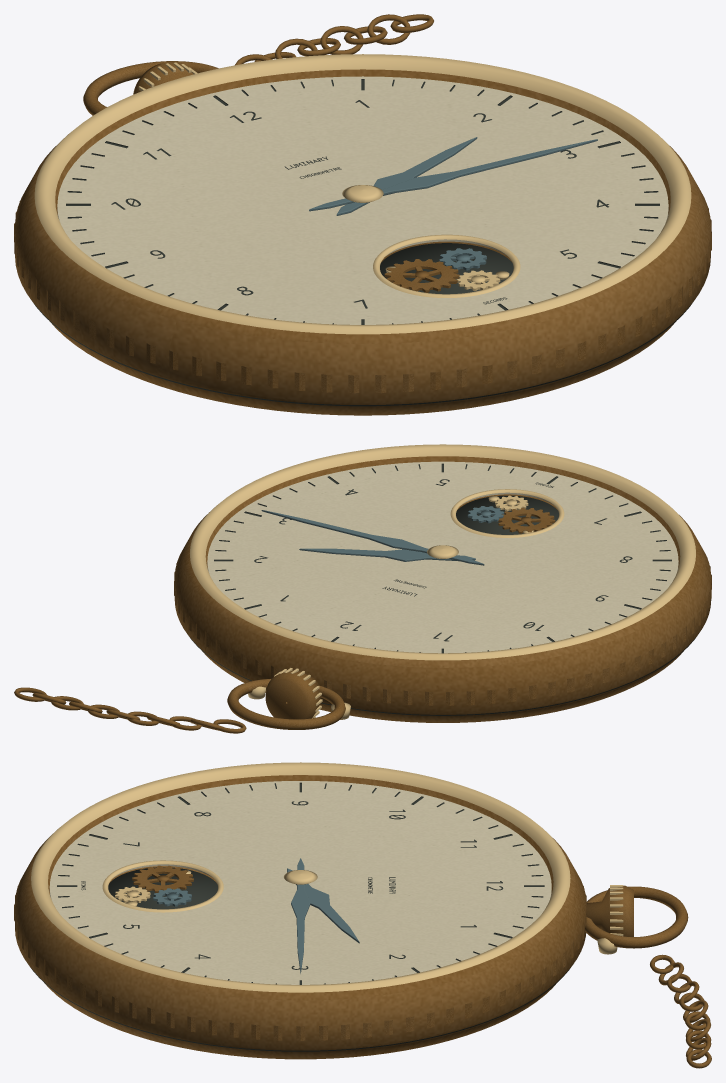
Rendered from brass-watch.glb.
3 views of the same model, one above another, from view 1: azimuth 30°, elevation 25°; view 2: azimuth 150°, elevation 25°; view 3: azimuth 270°, elevation 25° (orthographic). The views are drawn at different scales.
Parts seen in each view (by area): view 1: Watch ivory enamel, Watch_Case / Aged brass, Watch_Case / Polished touch edges, Watch_Case / Engraved charcoal, Mechanism recessed bed, Watch_minute, Watch_Mechanism / Aged brass / Watch_escape_wheel_pivot, Watch_hour, Watch_Mechanism / Tempered blue steel / Watch_driving_pinion, Watch crown stem, Watch_Mechanism / Polished touch edges / Watch_balance_pivot; view 2: Watch ivory enamel, Watch_Case / Aged brass, Watch_Case / Polished touch edges, Watch_Case / Engraved charcoal, Watch crown stem, Mechanism recessed bed, Watch_minute, Watch_Mechanism / Aged brass / Watch_escape_wheel_pivot, Watch_hour, Watch_Mechanism / Tempered blue steel / Watch_driving_pinion; view 3: Watch ivory enamel, Watch_Case / Aged brass, Watch_Case / Polished touch edges, Watch_Case / Engraved charcoal, Mechanism recessed bed, Watch crown stem, Watch_Mechanism / Aged brass / Watch_escape_wheel_pivot, Watch_minute, Watch_hour, Watch_Mechanism / Tempered blue steel / Watch_driving_pinion.
Part boxes in pixels (x1,y1,x2,y2): Watch ivory enamel: (57, 76, 668, 324); Watch_Case / Aged brass: (14, 14, 711, 415); Watch_Case / Polished touch edges: (34, 54, 691, 334); Watch_Case / Engraved charcoal: (33, 79, 692, 406); Mechanism recessed bed: (380, 243, 513, 294); Watch_minute: (309, 139, 597, 211); Watch_Mechanism / Aged brass / Watch_escape_wheel_pivot: (384, 259, 459, 292); Watch_hour: (336, 137, 477, 215); Watch_Mechanism / Tempered blue steel / Watch_driving_pinion: (439, 248, 486, 270); Watch crown stem: (133, 62, 193, 94); Watch_Mechanism / Polished touch edges / Watch_balance_pivot: (456, 270, 500, 290); Watch ivory enamel: (207, 461, 678, 653); Watch_Case / Aged brass: (14, 456, 711, 733); Watch_Case / Polished touch edges: (190, 444, 695, 719); Watch_Case / Engraved charcoal: (190, 463, 695, 715); Watch crown stem: (265, 670, 320, 719); Mechanism recessed bed: (456, 495, 558, 534); Watch_minute: (261, 510, 484, 565); Watch_Mechanism / Aged brass / Watch_escape_wheel_pivot: (497, 507, 555, 533); Watch_hour: (299, 548, 475, 561); Watch_Mechanism / Tempered blue steel / Watch_driving_pinion: (467, 506, 504, 523); Watch ivory enamel: (49, 781, 551, 984); Watch_Case / Aged brass: (14, 775, 711, 1068); Watch_Case / Polished touch edges: (31, 762, 617, 992); Watch_Case / Engraved charcoal: (30, 782, 573, 1051); Mechanism recessed bed: (108, 867, 217, 909); Watch crown stem: (586, 885, 633, 936); Watch_Mechanism / Aged brass / Watch_escape_wheel_pivot: (132, 865, 193, 892); Watch_minute: (291, 858, 310, 973); Watch_hour: (287, 868, 359, 943); Watch_Mechanism / Tempered blue steel / Watch_driving_pinion: (153, 888, 191, 906).
Bounding box in the file's own units: 0.0653 × 0.0097 × 0.0781.
Materials: 5 (2 with a texture image).
